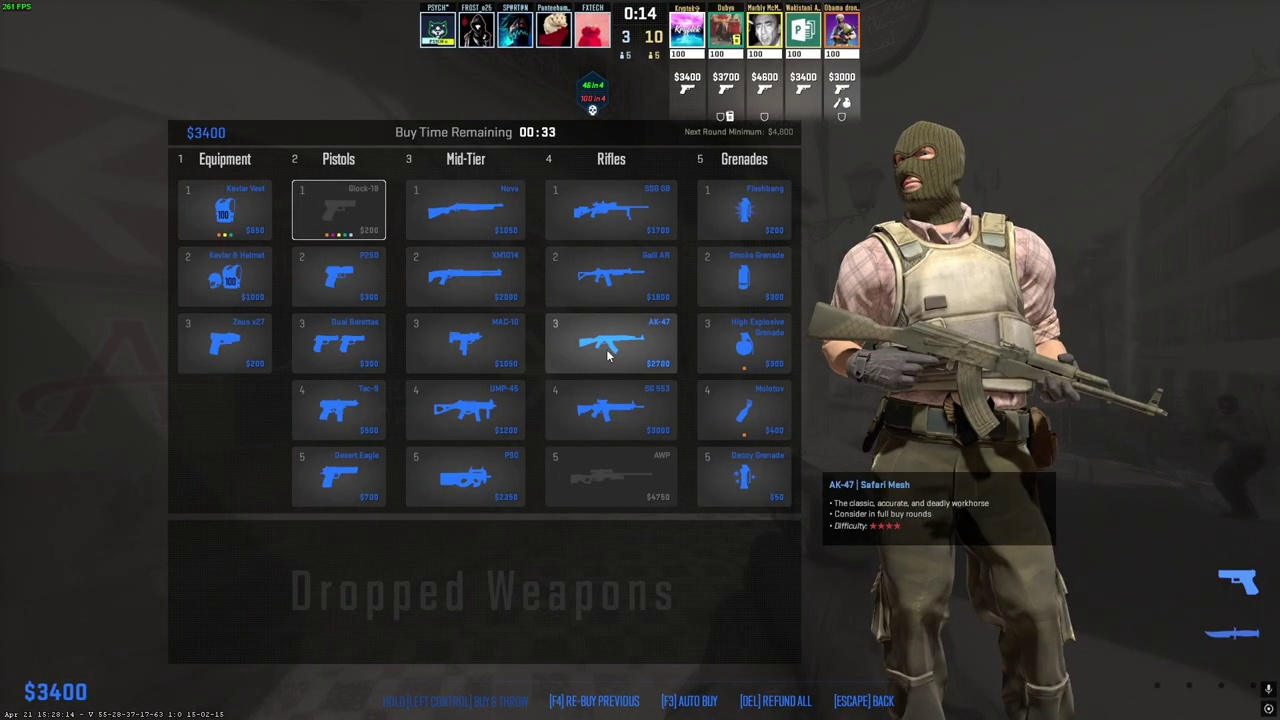Terrorist: (846, 121, 1080, 720)
